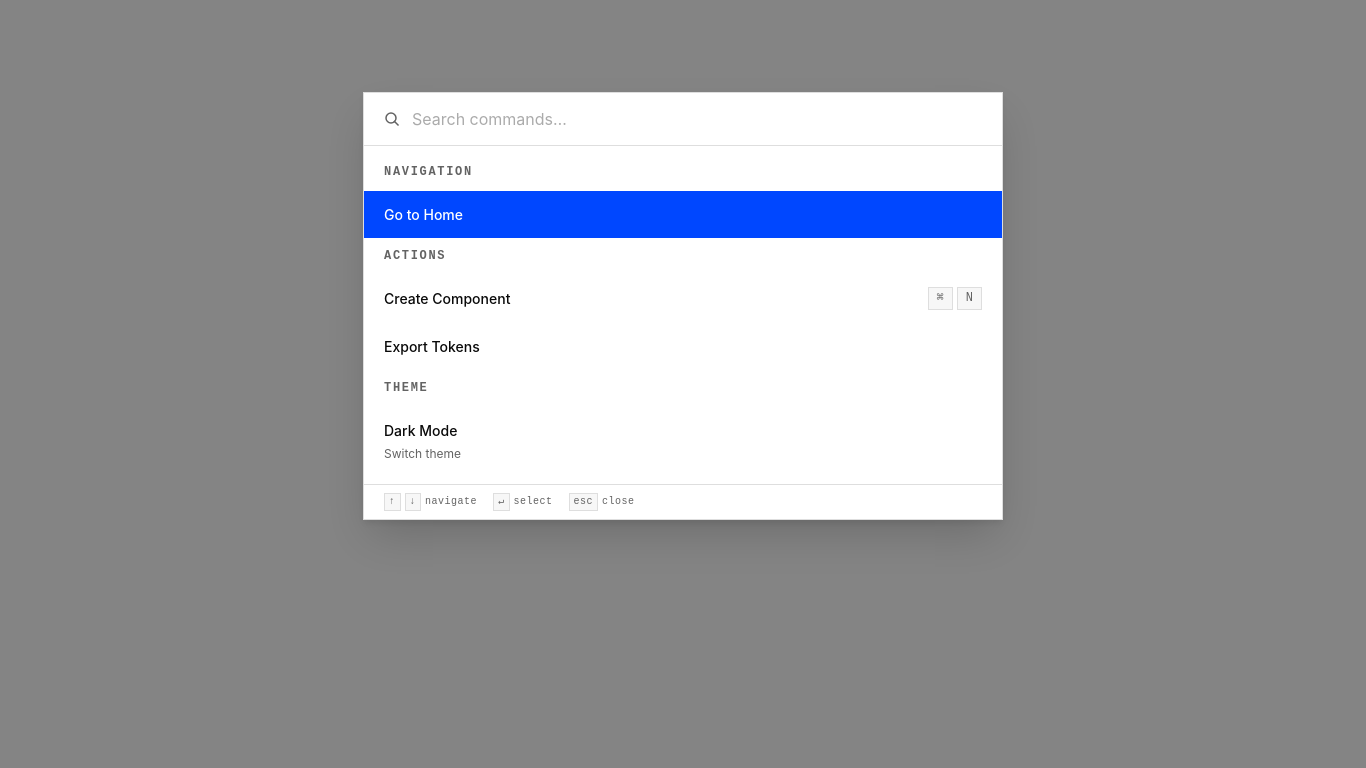
it: CommandPalette › filters items by query — label match
The image size is (1366, 768).
Type "dark" into the dropdown at {"x": 697, "y": 119}, box [412,109,982,129]
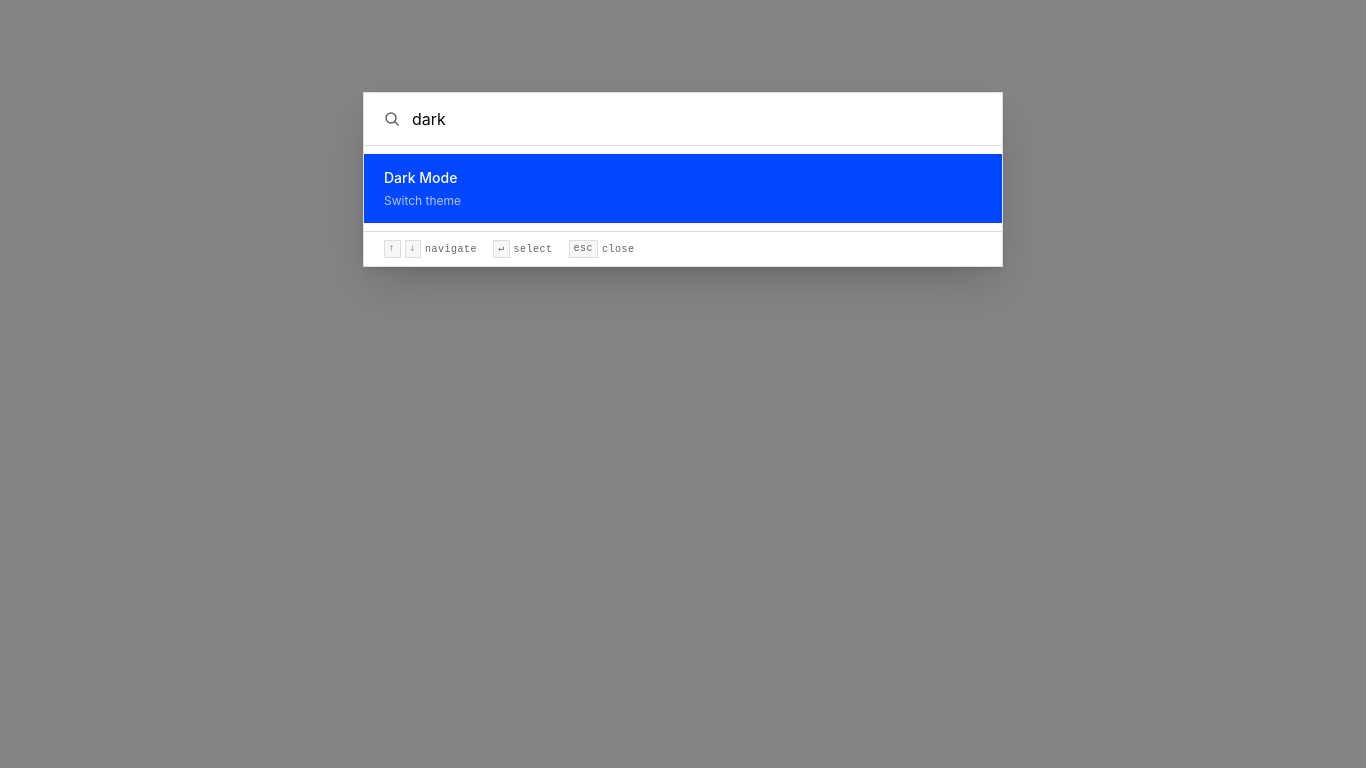
Expected: the text "Dark Mode" is shown, [384,169,457,186]
Expected: the option "Go to Home" is gone
